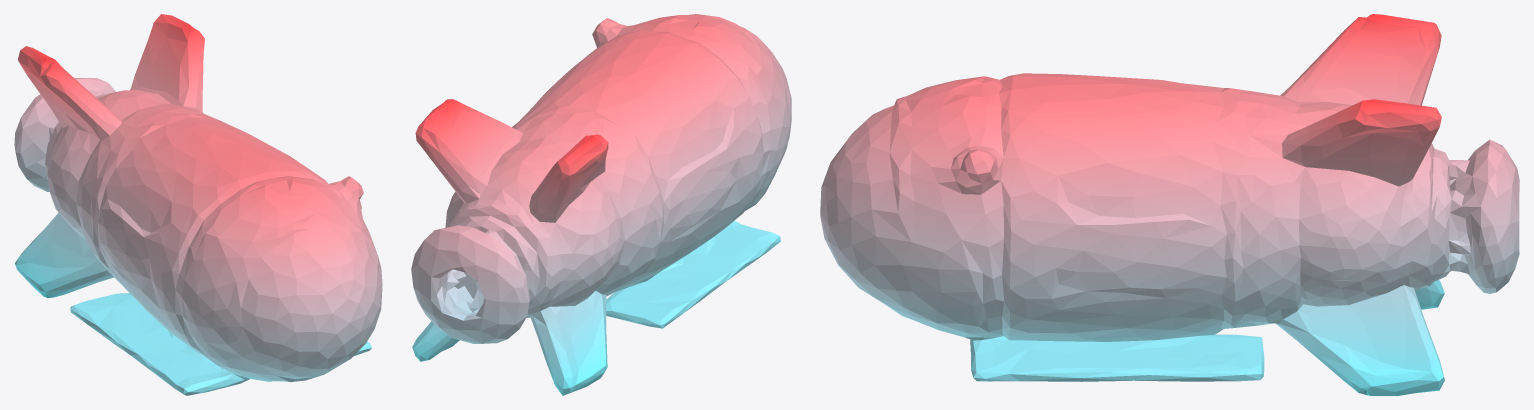
The model's file is 89_cyb_laser_gradient_fish_scales_2854_2026_10_03_545973.glb.
3 renders of one model, left to right at view 1: azimuth 30°, elevation 25°; view 2: azimuth 150°, elevation 25°; view 3: azimuth 270°, elevation 25°, orthographic. The views are drawn at different scales.
Visible parts, largest first — view 1: geometry_0; view 2: geometry_0; view 3: geometry_0.
Boxes of the visible parts, x1,y1,x2,y2 form: geometry_0: (14,14,382,395); geometry_0: (411,14,791,395); geometry_0: (820,14,1519,395).
Size of the model in its own units: 0.3912 by 0.468 by 1.
